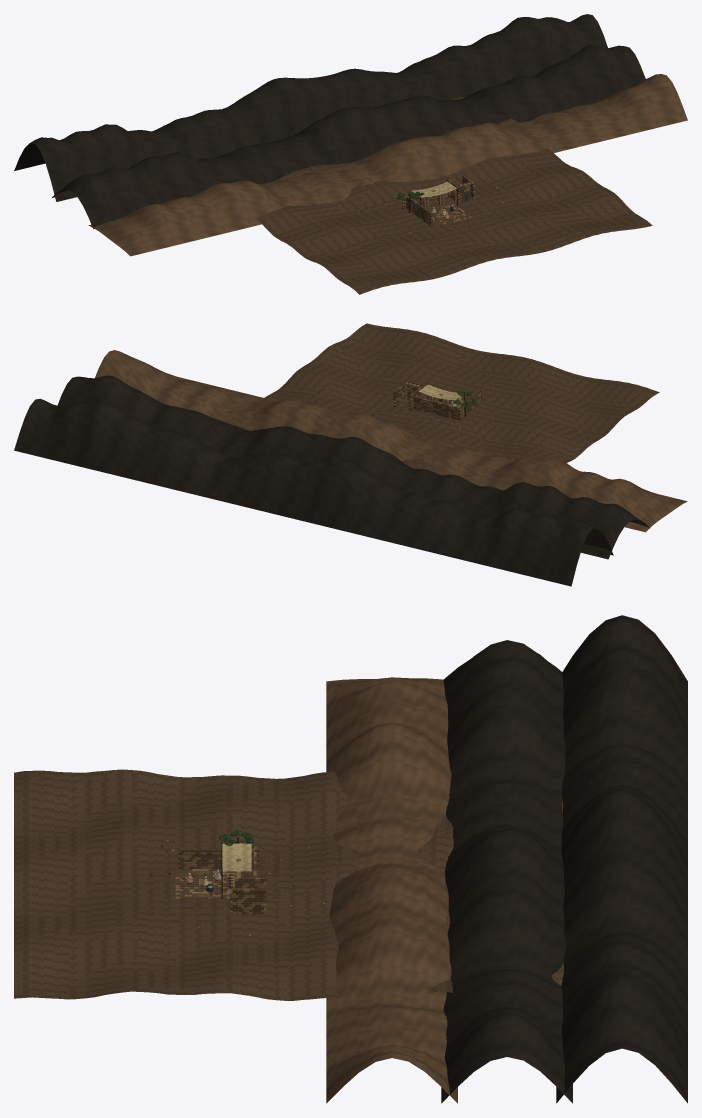
Rendered from chapter-2.glb.
3 renders of one model, top to bottom at view 1: azimuth 30°, elevation 25°; view 2: azimuth 150°, elevation 25°; view 3: azimuth 270°, elevation 25°, orthographic. The views are drawn at different scales.
Parts seen in each view (by area): view 1: Continuous weathered terrain 2, Eroded ridge band 2.002, Eroded ridge band 1.002, Eroded ridge band 0.002; view 2: Eroded ridge band 2.002, Continuous weathered terrain 2, Eroded ridge band 0.002, Eroded ridge band 1.002; view 3: Continuous weathered terrain 2, Eroded ridge band 2.002, Eroded ridge band 1.002, Eroded ridge band 0.002, Sagging woven shade.
Part boxes in pixels (x1,y1,x2,y2): Continuous weathered terrain 2: [256, 97, 652, 294]; Eroded ridge band 2.002: [14, 14, 607, 201]; Eroded ridge band 1.002: [52, 45, 645, 229]; Eroded ridge band 0.002: [88, 74, 687, 256]; Eroded ridge band 2.002: [14, 398, 613, 586]; Continuous weathered terrain 2: [226, 323, 659, 475]; Eroded ridge band 0.002: [95, 350, 687, 532]; Eroded ridge band 1.002: [57, 375, 650, 559]; Continuous weathered terrain 2: [14, 769, 563, 1000]; Eroded ridge band 2.002: [556, 615, 687, 1103]; Eroded ridge band 1.002: [441, 640, 572, 1103]; Eroded ridge band 0.002: [326, 677, 457, 1103]; Sagging woven shade: [222, 843, 251, 871].
Bounding box in the file's own units: 182 × 15.62 × 123.
15 materials, 9 textured.
